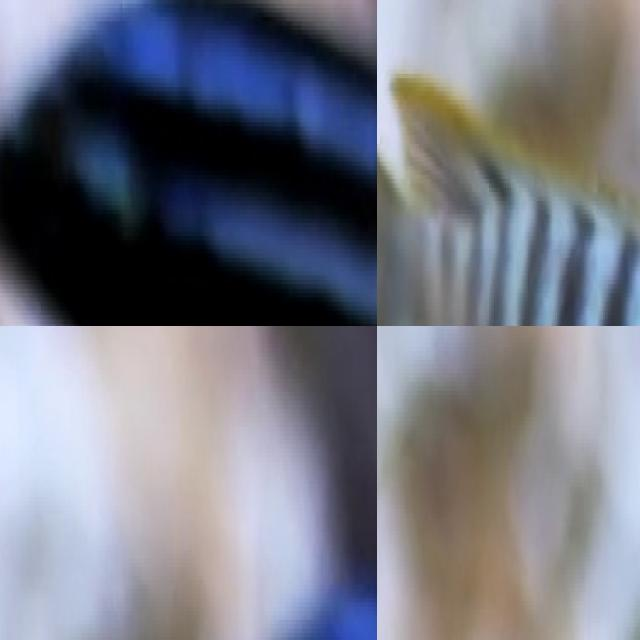fish: (0, 0, 377, 326), (186, 484, 377, 640)
